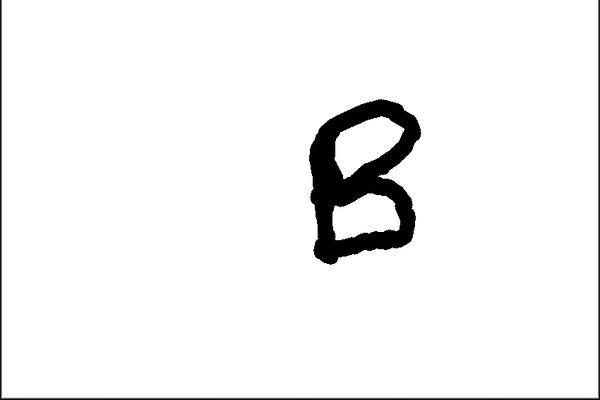B: (297, 89, 427, 270)
